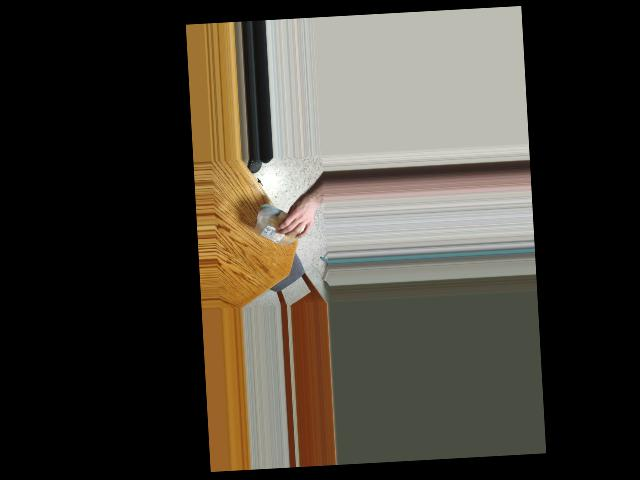cheese: (257, 214, 299, 244)
